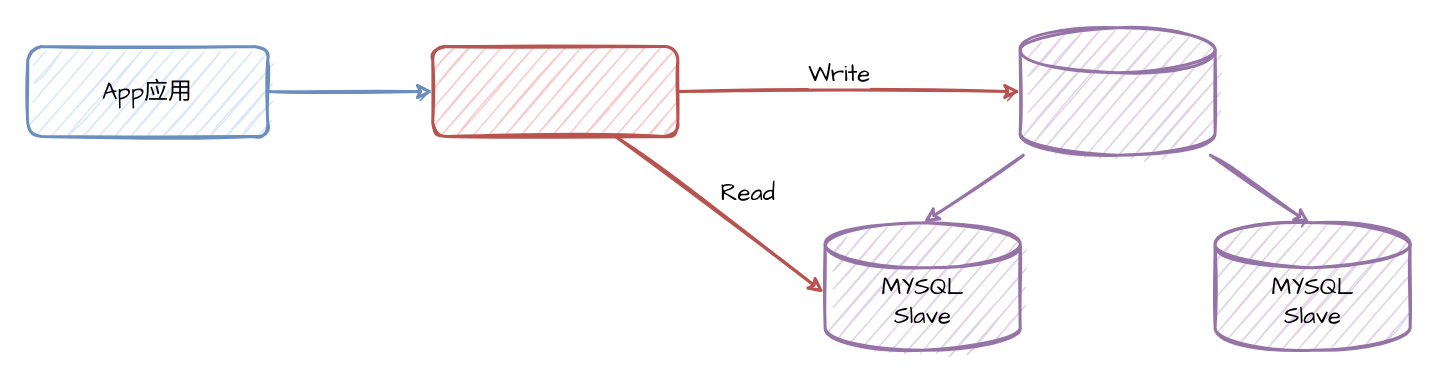
Image size: 1437x377. Some labels were removed from this diagram. The shapes that lost their labels are listed below. From the top down, each one's box as (x1, y1, x2, y2) in pixels, then its label:
(430, 44, 679, 137): ReferralService
(1018, 26, 1216, 156): MYSQL Master
